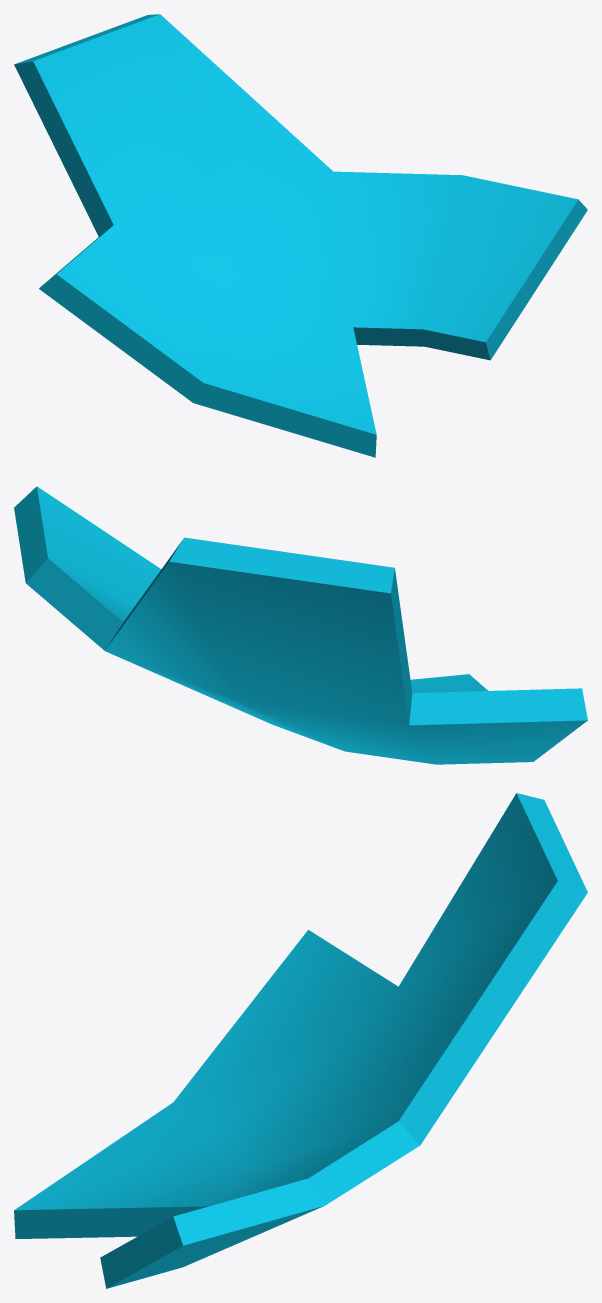
File: Vaccine1_Shard1.fbx
3 views of the same model, one above another, from view 1: azimuth 30°, elevation 25°; view 2: azimuth 150°, elevation 25°; view 3: azimuth 270°, elevation 25° (orthographic). The views are drawn at different scales.
Parts seen in each view (by area): view 1: barrier_shard.001; view 2: barrier_shard.001; view 3: barrier_shard.001.
Part boxes in pixels (x1,y1,x2,y2): barrier_shard.001: (14,14,587,457); barrier_shard.001: (14,486,587,764); barrier_shard.001: (14,793,587,1288).
Size of the model in its own units: 115 by 63.84 by 92.63.
